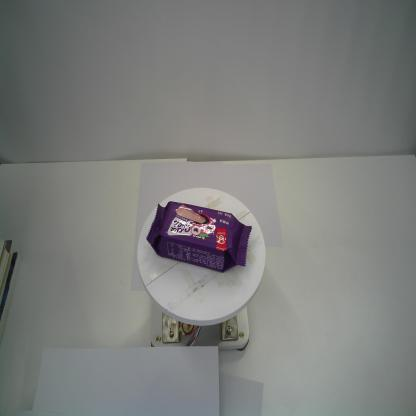Dessert: (145, 201, 253, 273)
